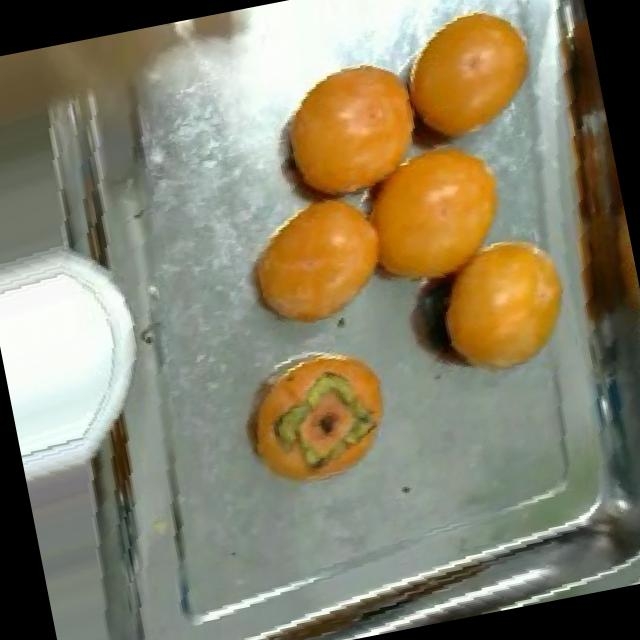Fruit: (322, 121, 536, 318), (246, 38, 447, 226), (408, 210, 600, 398), (222, 332, 414, 506), (372, 0, 564, 164), (220, 180, 400, 346)
